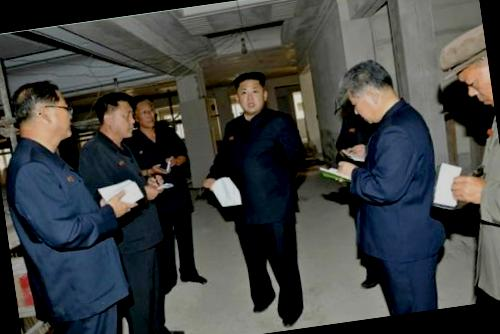no_helmet: (7, 74, 78, 156), (336, 54, 401, 130), (91, 88, 138, 146), (228, 64, 274, 117), (129, 92, 161, 134)
